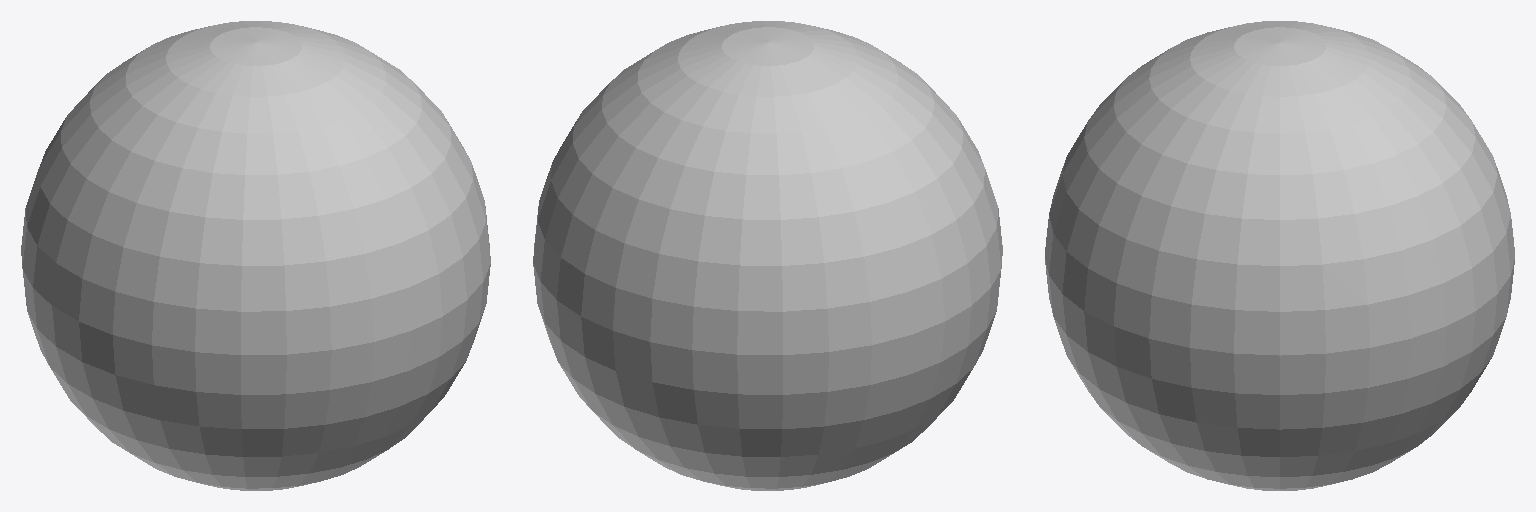
Rendered from Projectile.obj.
The picture shows the model from 3 angles: view 1: azimuth 30°, elevation 25°; view 2: azimuth 150°, elevation 25°; view 3: azimuth 270°, elevation 25°; orthographic projection.
Visible parts, largest first — view 1: Sphere; view 2: Sphere; view 3: Sphere.
Part boxes in pixels (bbox=[...]): Sphere: bbox=[21, 21, 490, 490]; Sphere: bbox=[533, 21, 1002, 490]; Sphere: bbox=[1045, 21, 1514, 490].
Bounding box in the file's own units: 0.1908 × 0.1908 × 0.1908.